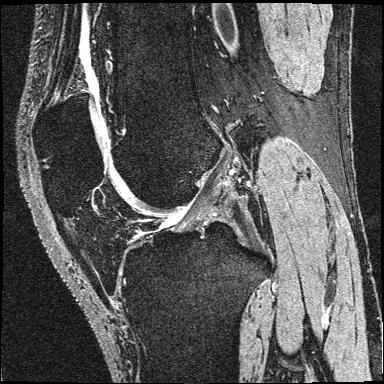SagKneeJointArea: (31, 92, 274, 311)
